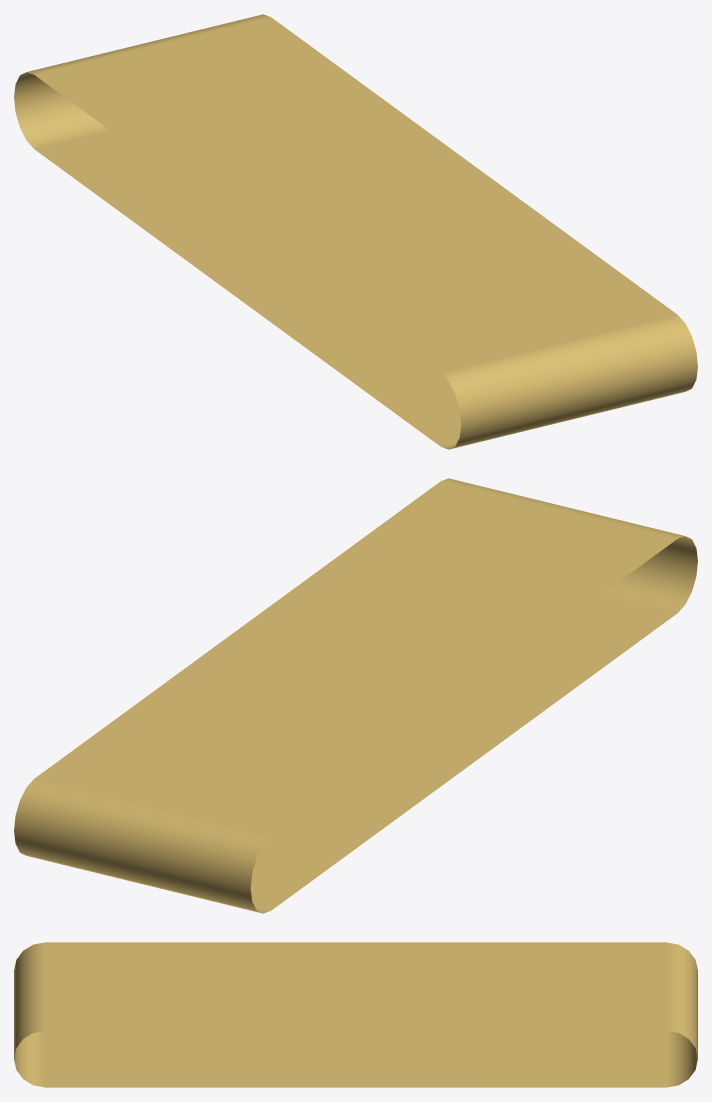
The model's file is Platform.fbx.
The picture shows the model from 3 angles, top to bottom: view 1: azimuth 30°, elevation 25°; view 2: azimuth 150°, elevation 25°; view 3: azimuth 270°, elevation 25°; orthographic projection. The views are drawn at different scales.
Parts seen in each view (by area): view 1: Platform; view 2: Platform; view 3: Platform.
Part boxes in pixels (x1,y1,x2,y2): Platform: (14,14,697,449); Platform: (14,478,697,913); Platform: (14,942,697,1087).
Bounding box in the file's own units: 154 × 46.21 × 503.
